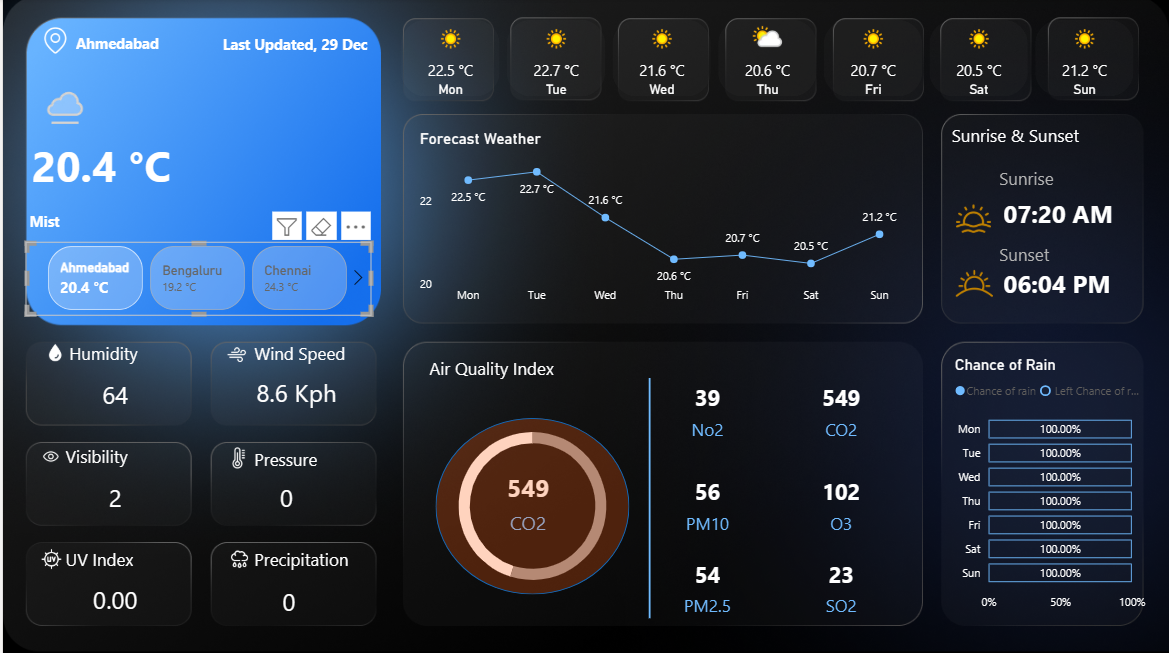

Layout of this report page (visuals, bound fields, positions):
{"tool":"powerbi","page":{"name":"Page 1","canvas":[1280,720],"ordinal":0},"visuals":[{"type":"advancedSlicerVisual","fields":{"Values":["Location.location.name"]},"box":[24.7,267.6,380.1,81],"z":0},{"type":"shape","box":[24.7,135.8,190.7,93.3],"z":1000},{"type":"shape","box":[24.7,214.1,380.1,61.7],"z":2000},{"type":"shape","box":[215.4,19.2,189.4,61.7],"z":3000},{"type":"shape","box":[76.8,27.4,138.6,42.5],"z":4000},{"type":"image","box":[24.7,27.4,65.9,38.4],"z":5000},{"type":"cardVisual","fields":{"Data":["Min(Current.current.condition.icon)"]},"box":[13.7,70,107,96.1],"z":6000},{"type":"image","box":[32.9,374.6,48,30.2],"z":7000},{"type":"shape","box":[72.7,374.6,83.7,30.2],"z":8000},{"type":"image","box":[230.5,376,52.1,31.6],"z":9000},{"type":"shape","box":[275.8,374.6,129,30.2],"z":10000},{"type":"image","box":[32.9,488.5,39.8,30.2],"z":11000},{"type":"shape","box":[68.6,488.5,129,30.2],"z":12000},{"type":"image","box":[231.9,488.5,53.5,32.9],"z":13000},{"type":"image","box":[28.8,599.7,49.4,32.9],"z":14000},{"type":"image","box":[230.5,599.7,57.6,32.9],"z":15000},{"type":"shape","box":[68.6,601,129,30.2],"z":16000},{"type":"shape","box":[275.8,601,129,30.2],"z":17000},{"type":"shape","box":[275.8,491.3,129,30.2],"z":18000},{"type":"card","fields":{"Values":["Sum(Current.current.humidity)"]},"box":[57.6,407.5,131.7,59],"z":19000},{"type":"card","fields":{"Values":["Sum(Current.current.vis_km)"]},"box":[39.8,518.7,167.4,61.7],"z":20000},{"type":"card","fields":{"Values":["Sum(Current.current.uv)"]},"box":[39.8,631.2,167.4,61.7],"z":21000},{"type":"card","fields":{"Values":["Sum(Current.current.precip_in)"]},"box":[227.8,518.7,167.4,61.7],"z":22000},{"type":"card","fields":{"Values":["Sum(Current.current.precip_in)"]},"box":[230.5,632.6,167.4,61.7],"z":23000},{"type":"card","fields":{"Values":["_Measures.wind speed"]},"box":[256.6,404.8,131.7,59],"z":24000},{"type":"advancedSlicerVisual","fields":{"Values":["Forecast_Day.Day_name"]},"box":[432.2,19.2,820.6,94.7],"z":25000},{"type":"lineChart","title":"Forecast Weather ","fields":{"Y":["Sum(Forecast_Day.forecast.forecastday.day.avgtemp_c)"],"Category":["Forecast_Day.Day_name"]},"box":[452.3,144,544.7,200.3],"z":26000},{"type":"shape","box":[1040.8,136.2,211.3,29.7],"z":27000},{"type":"shape","box":[1094.1,205,158.1,62.6],"z":28000},{"type":"shape","box":[1094.1,281.7,158.1,62.6],"z":29000},{"type":"shape","box":[1094.1,183.1,165.9,31.3],"z":30000},{"type":"shape","box":[1094.1,266.1,165.9,29.7],"z":31000},{"type":"image","box":[1031.5,281.7,68.9,64.2],"z":32000},{"type":"image","box":[1037.7,217.6,56.3,48.5],"z":33000},{"type":"hundredPercentStackedBarChart","title":"Chance of Rain","fields":{"Category":["Forecast_Day.Day_name"],"Y":["Sum(Forecast_Day.forecast.forecastday.day.daily_chance_of_rain)","_Measures.Left_value_rain"]},"box":[1040.5,392.4,219.2,289.1],"z":34000},{"type":"shape","box":[468.6,390.8,211.3,30.2],"z":35000},{"type":"card","fields":{"Values":["Sum(Current.current.air_quality.co)"]},"box":[841.9,417.8,155.7,71.5],"z":36000},{"type":"card","fields":{"Values":["Sum(Current.current.air_quality.pm10)"]},"box":[695.8,519.4,155.7,71.5],"z":37000},{"type":"card","fields":{"Values":["Sum(Current.current.air_quality.o3)"]},"box":[841.9,519.4,155.7,71.5],"z":38000},{"type":"card","fields":{"Values":["Sum(Current.current.air_quality.no2)"]},"box":[695.8,417.8,155.7,71.5],"z":39000},{"type":"card","fields":{"Values":["Sum(Current.current.air_quality.pm2_5)"]},"box":[695.8,610,155.7,71.5],"z":40000},{"type":"card","fields":{"Values":["Sum(Current.current.air_quality.so2)"]},"box":[841.9,610,155.7,71.5],"z":41000},{"type":"shape","box":[646.5,417.8,127.1,263.7],"z":42000},{"type":"card","fields":{"Values":["Sum(Current.current.air_quality.co)"]},"box":[513.1,514.7,127.1,76.2],"z":43000},{"type":"donutChart","fields":{"Y":["Sum(Current.current.air_quality.co)","-MEASURES.left_val_CO2"]},"box":[452.7,451.1,257.3,212.9],"z":44000},{"type":"shape","box":[475,460.7,212.9,193.8],"z":45000}]}

Visuals, with their boxes in screenshot pixels (x1, y1, x2, y2), scaled from the page's 1280x720 canvas onto the 1169x653 screenshot:
advancedSlicerVisual - Location.location.name: select_region(23, 243, 370, 316)
shape: select_region(23, 123, 197, 208)
shape: select_region(23, 194, 370, 250)
shape: select_region(197, 17, 370, 73)
shape: select_region(70, 25, 197, 63)
image: select_region(23, 25, 83, 60)
cardVisual - Min(Current.current.condition.icon): select_region(13, 63, 110, 151)
image: select_region(30, 340, 74, 367)
shape: select_region(66, 340, 143, 367)
image: select_region(211, 341, 258, 370)
shape: select_region(252, 340, 370, 367)
image: select_region(30, 443, 66, 470)
shape: select_region(63, 443, 180, 470)
image: select_region(212, 443, 261, 473)
image: select_region(26, 544, 71, 574)
image: select_region(211, 544, 263, 574)
shape: select_region(63, 545, 180, 572)
shape: select_region(252, 545, 370, 572)
shape: select_region(252, 446, 370, 473)
card - Sum(Current.current.humidity): select_region(53, 370, 173, 423)
card - Sum(Current.current.vis_km): select_region(36, 470, 189, 526)
card - Sum(Current.current.uv): select_region(36, 572, 189, 628)
card - Sum(Current.current.precip_in): select_region(208, 470, 361, 526)
card - Sum(Current.current.precip_in): select_region(211, 574, 363, 630)
card - _Measures.wind speed: select_region(234, 367, 355, 421)
advancedSlicerVisual - Forecast_Day.Day_name: select_region(395, 17, 1144, 103)
"Forecast Weather " lineChart: select_region(413, 131, 911, 312)
shape: select_region(951, 124, 1144, 150)
shape: select_region(999, 186, 1144, 243)
shape: select_region(999, 255, 1144, 312)
shape: select_region(999, 166, 1151, 194)
shape: select_region(999, 241, 1151, 268)
image: select_region(942, 255, 1005, 314)
image: select_region(948, 197, 999, 241)
"Chance of Rain" hundredPercentStackedBarChart: select_region(950, 356, 1150, 618)
shape: select_region(428, 354, 621, 382)
card - Sum(Current.current.air_quality.co): select_region(769, 379, 911, 444)
card - Sum(Current.current.air_quality.pm10): select_region(635, 471, 778, 536)
card - Sum(Current.current.air_quality.o3): select_region(769, 471, 911, 536)
card - Sum(Current.current.air_quality.no2): select_region(635, 379, 778, 444)
card - Sum(Current.current.air_quality.pm2_5): select_region(635, 553, 778, 618)
card - Sum(Current.current.air_quality.so2): select_region(769, 553, 911, 618)
shape: select_region(590, 379, 707, 618)
card - Sum(Current.current.air_quality.co): select_region(469, 467, 585, 536)
donutChart - Sum(Current.current.air_quality.co) x -MEASURES.left_val_CO2: select_region(413, 409, 648, 602)
shape: select_region(434, 418, 628, 594)
